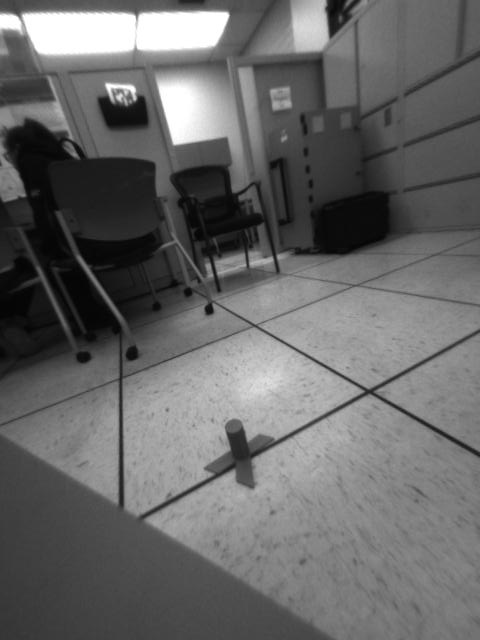X: (202, 416, 278, 491)
